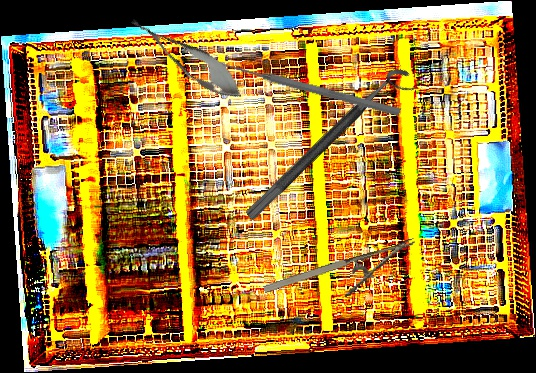Fixation Ring: (243, 62, 421, 234)
Micro Scissor: (122, 6, 252, 110)
Needle Holder: (261, 237, 425, 319)
Pusher: (219, 58, 402, 118)
